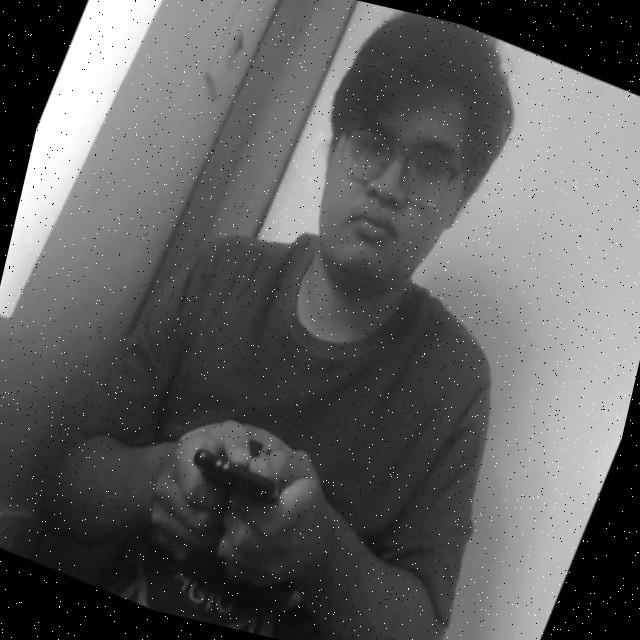phone: (155, 403, 332, 555)
